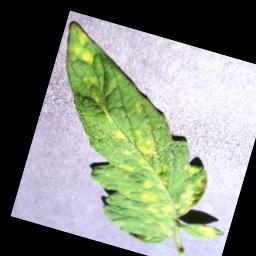Leaf_Mold: (93, 121, 214, 229), (68, 30, 102, 66), (198, 222, 220, 240)
